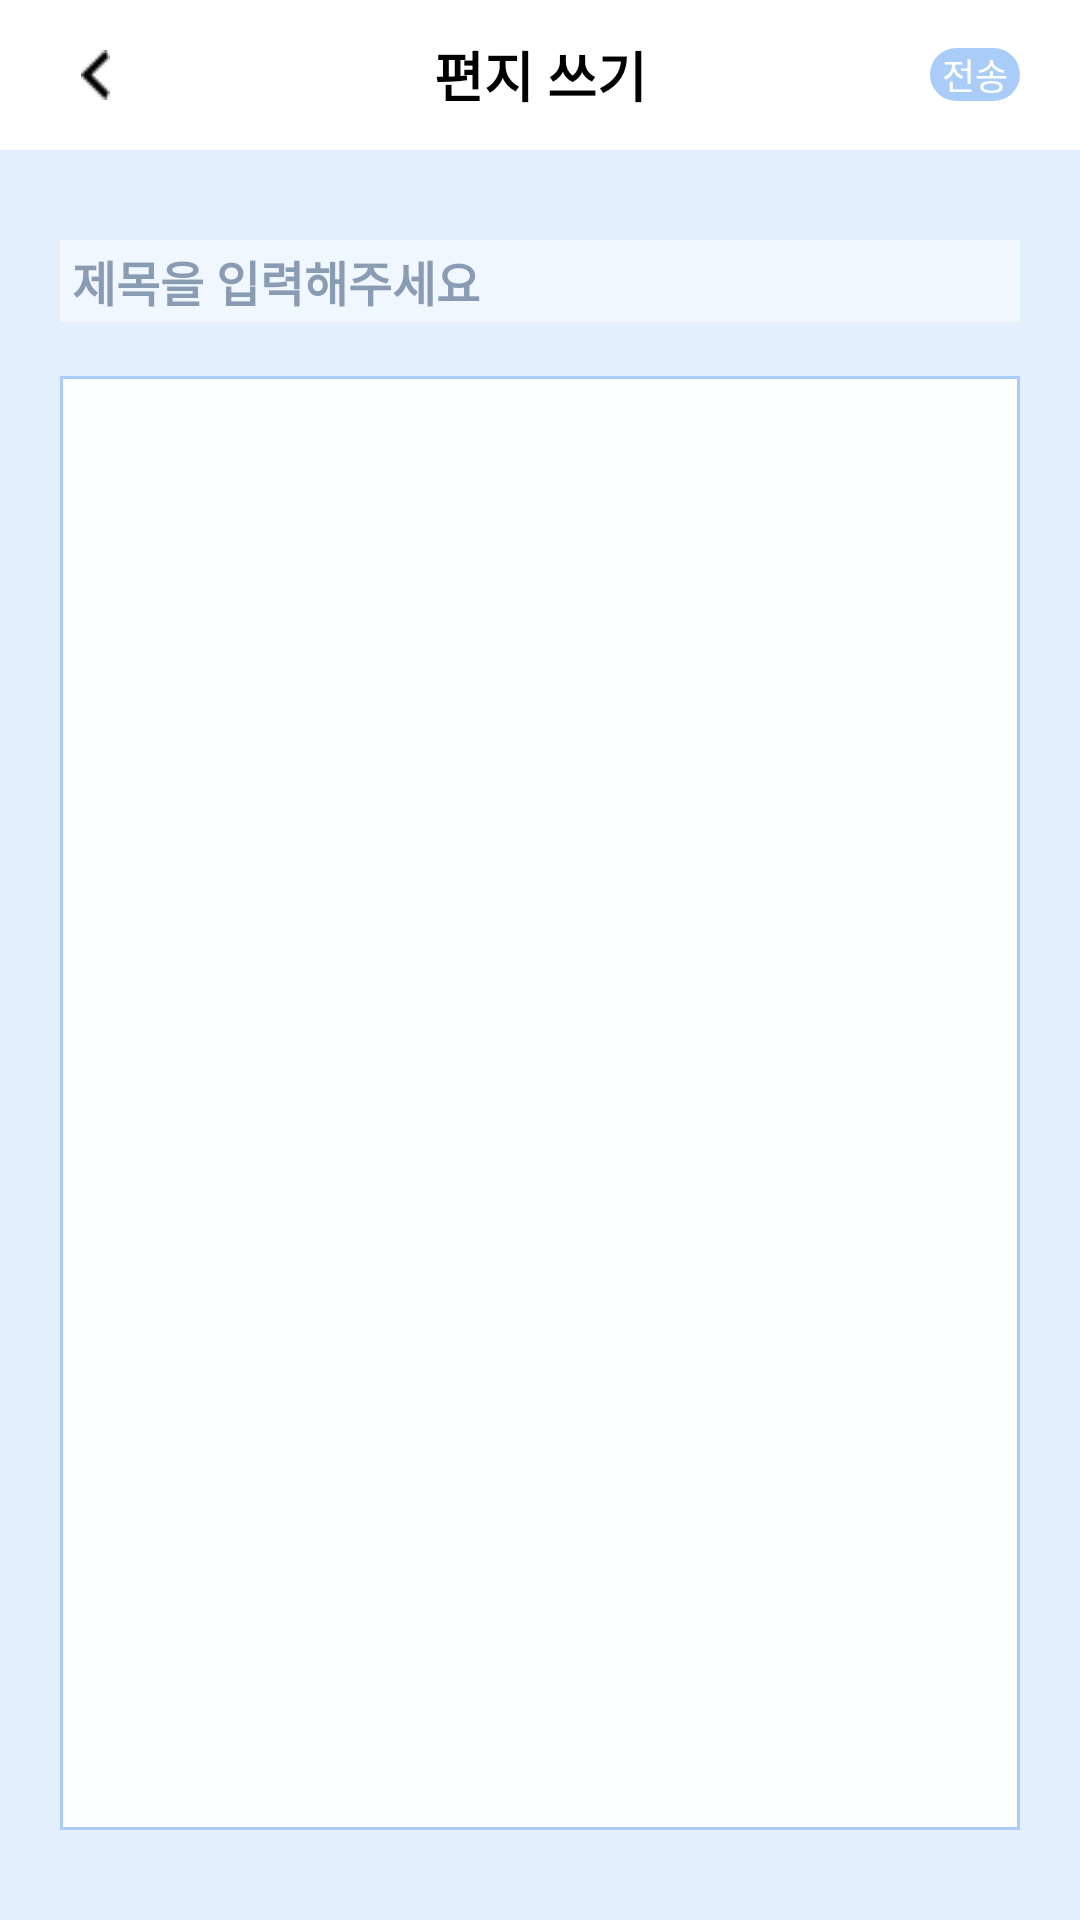

Locate icon controls on the screen. Image size 1080px×1920px, boxes as [x1=x1, y1=y1, x2=x2, y2=y2].
back: [x1=81, y1=50, x2=110, y2=100]
